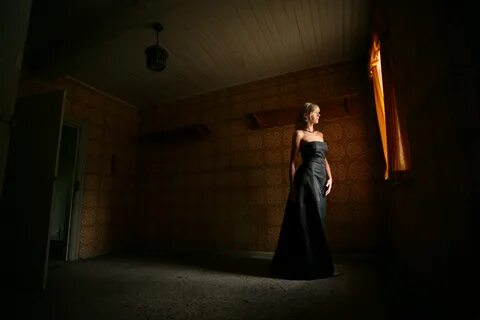awake: (272, 101, 335, 281)
